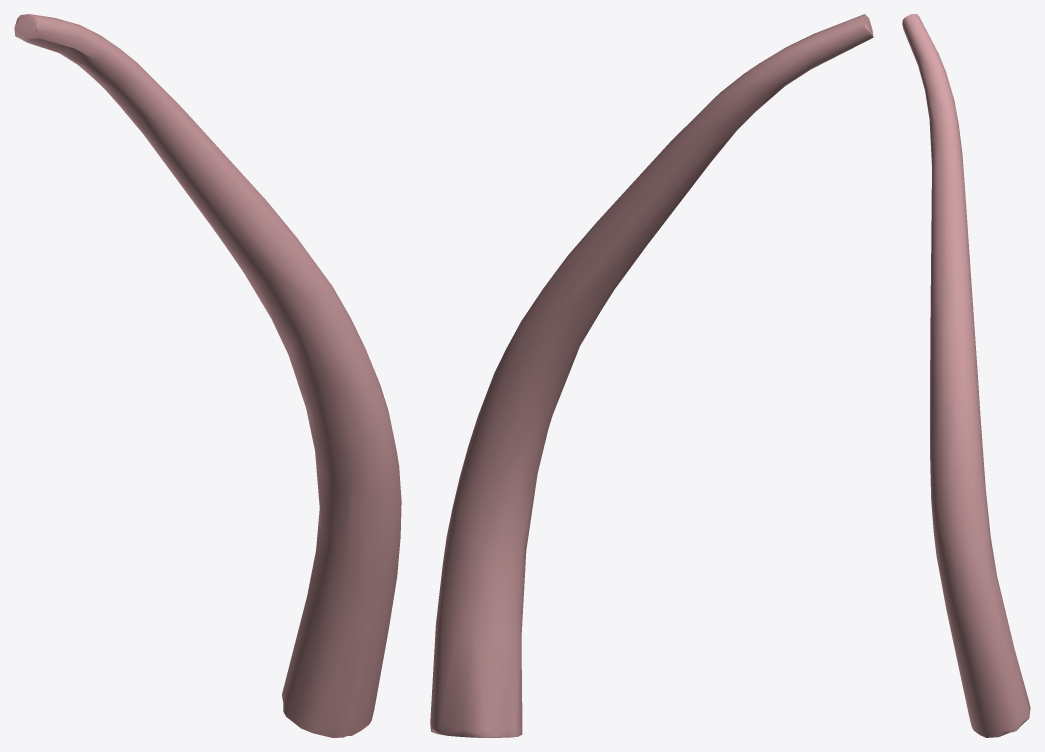
Rendered from fma68224_fj6503.glb.
3 renders of one model, left to right at view 1: azimuth 30°, elevation 25°; view 2: azimuth 150°, elevation 25°; view 3: azimuth 270°, elevation 25°, orthographic. The views are drawn at different scales.
Visible parts, largest first — view 1: FMA68224_FJ6503; view 2: FMA68224_FJ6503; view 3: FMA68224_FJ6503.
Part boxes in pixels (x1=…): FMA68224_FJ6503: x1=14, y1=14, x2=401, y2=737; FMA68224_FJ6503: x1=430, y1=14, x2=873, y2=737; FMA68224_FJ6503: x1=902, y1=14, x2=1030, y2=737.
Bounding box in the file's own units: 0.0428 × 0.0812 × 0.016.
